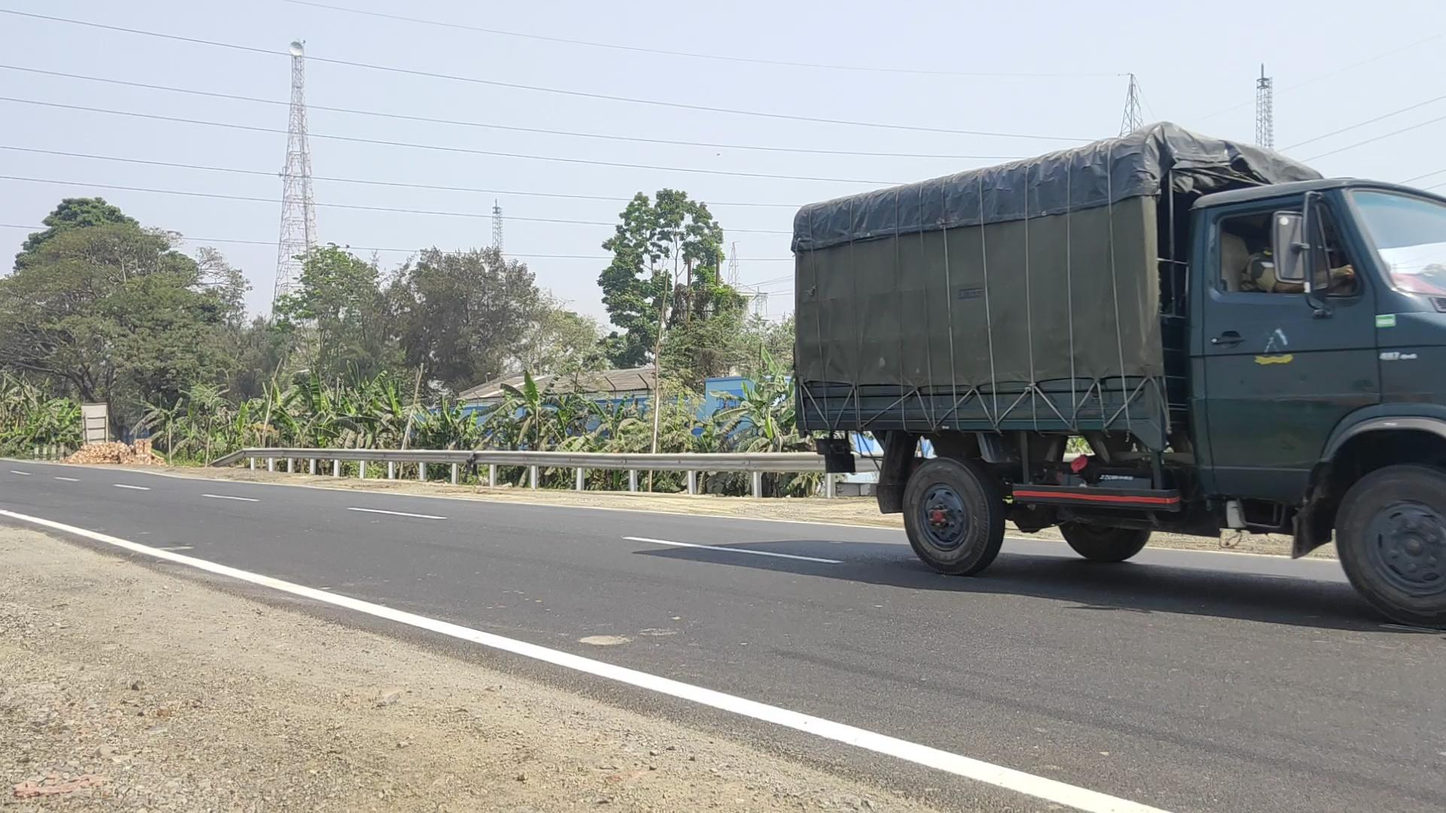truck: (792, 121, 1446, 629)
